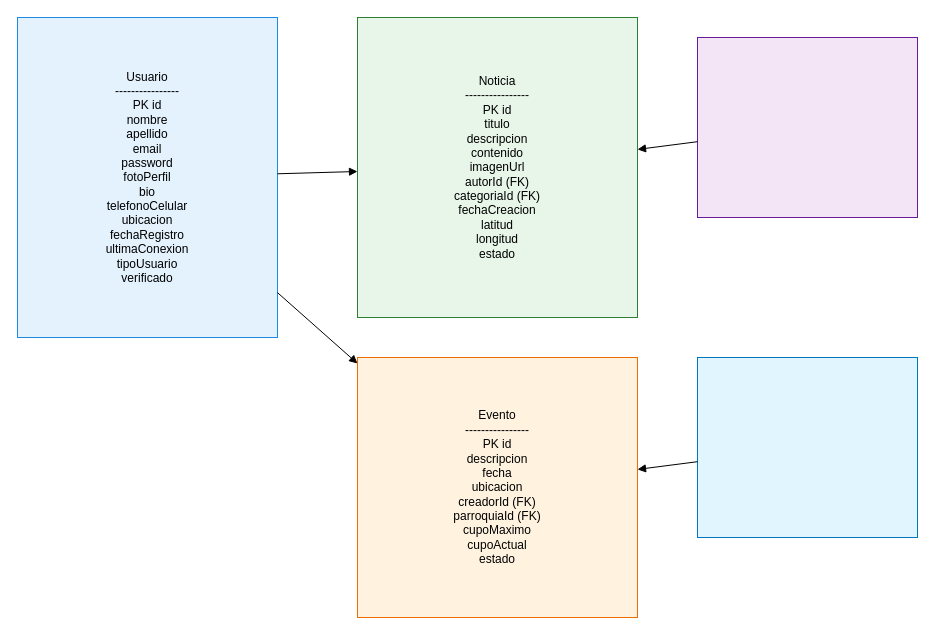
This 935x635 diagram has some shape labels left out. The box of each missing label's shape, as (x1, y1, x2, y2) in pixels:
Categoria ---------------- PK id nombre descripcion color: (696, 36, 918, 218)
Parroquia ---------------- PK id nombre latitud longitud: (696, 356, 918, 538)
